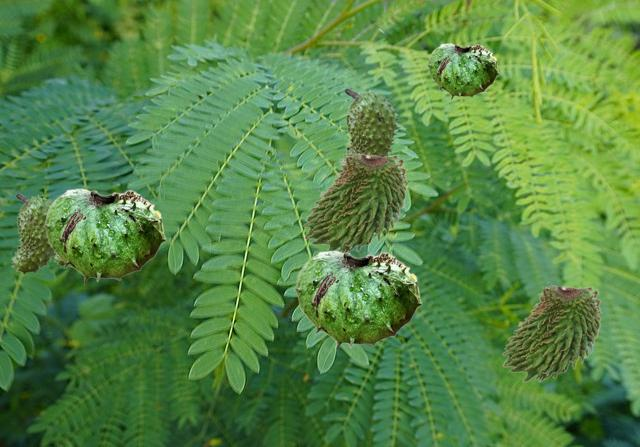guyabano: (294, 250, 421, 350), (43, 188, 165, 284), (302, 149, 407, 252), (501, 281, 601, 381), (338, 88, 401, 170), (427, 43, 498, 99), (10, 193, 55, 275)
